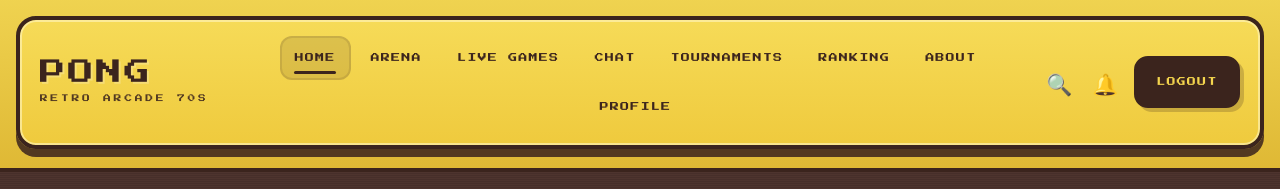
it: Navbar — bell and DM badge › clicking the toggle reveals the input and auto-focuses it
The width and height of the screenshot is (1280, 189).
Click the button named "open user search" at (1059, 82), box x1=1042 y1=68 x2=1076 y2=97
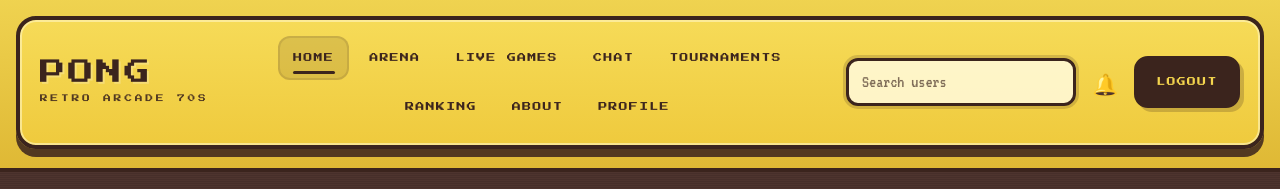
Result: the search field labelled "Search users" is shown at x1=846 y1=58 x2=1076 y2=106
